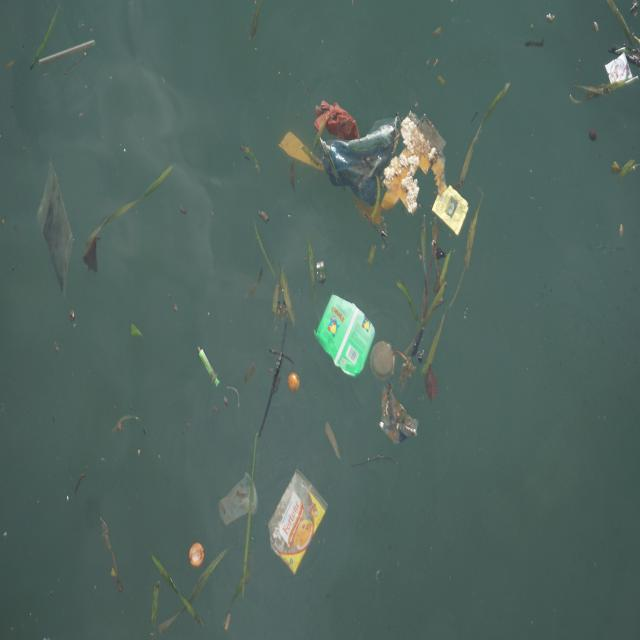Bungkus Makanan: (269, 467, 331, 580), (314, 292, 377, 382), (602, 52, 636, 91)
Bungkus Minuman: (219, 469, 261, 532), (432, 182, 472, 240)
Kantong Plastik: (319, 118, 402, 212), (32, 149, 80, 300), (312, 93, 364, 144)
